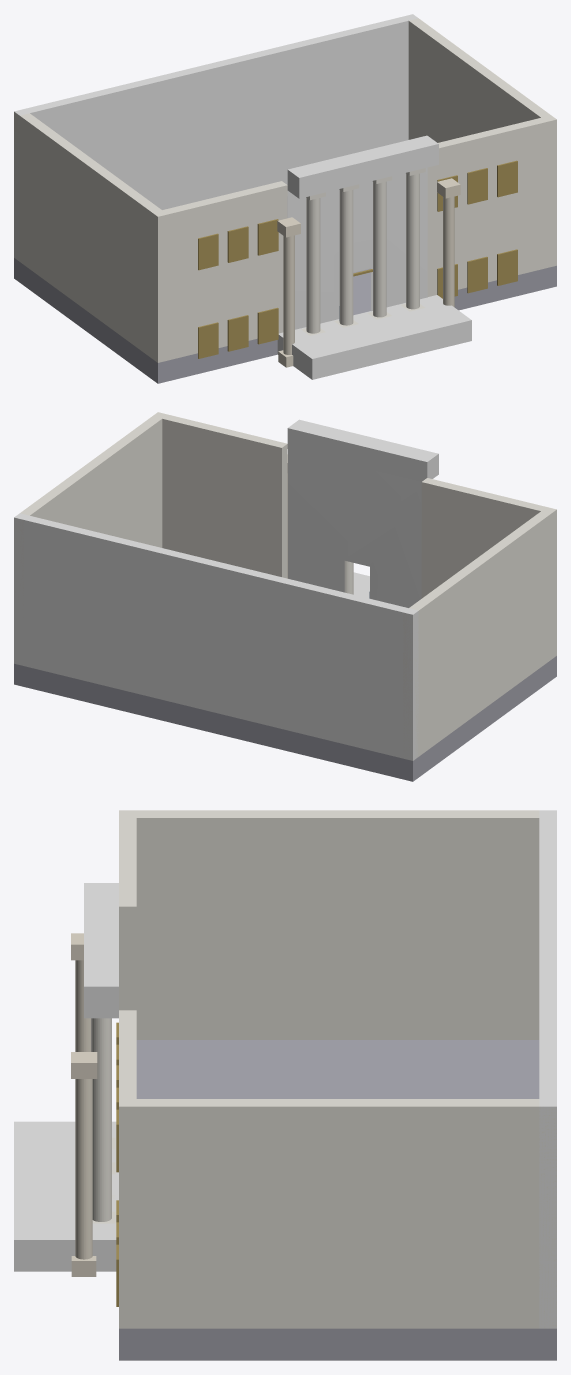
Rendered from entrée.fbx.
The picture shows the model from 3 angles, top to bottom: view 1: azimuth 30°, elevation 25°; view 2: azimuth 150°, elevation 25°; view 3: azimuth 270°, elevation 25°; orthographic projection. The views are drawn at different scales.
Visible parts, largest first — view 1: Mur_Arriere, Mur_G, Aile_G, Aile_D, Mur_D, Mur_Porche, Escalier, Socle, Architrave, Col_0.001, Col_1.002, Col_3.002 (+13 smaller); view 2: Mur_Arriere, Mur_G, Aile_D, Mur_Porche, Socle, Mur_D, Aile_G, Architrave; view 3: Mur_D, Mur_G, Socle, Escalier, Mur_Arriere, Aile_D, Architrave, Col_3.002, Aile_G, Col_8, Col_-8, Top_8.
Part boxes in pixels (box(x1,y1,x2,y2)): Mur_Arriere: box(14, 14, 418, 261); Mur_G: box(14, 111, 167, 362); Aile_G: box(152, 181, 287, 362); Aile_D: box(427, 118, 556, 296); Mur_D: box(408, 18, 556, 267); Mur_Porche: box(288, 167, 427, 329); Escalier: box(277, 295, 471, 379); Socle: box(14, 196, 556, 383); Architrave: box(287, 135, 438, 198); Col_0.001: box(306, 198, 320, 333); Col_1.002: box(339, 190, 353, 325); Col_3.002: box(406, 173, 419, 309); Mur_Arriere: box(14, 513, 418, 760); Mur_G: box(403, 507, 556, 758); Aile_D: box(162, 414, 287, 578); Mur_Porche: box(288, 449, 421, 607); Socle: box(14, 656, 556, 781); Mur_D: box(14, 412, 167, 617); Aile_G: box(421, 478, 556, 598); Architrave: box(287, 419, 438, 481); Mur_D: box(119, 1099, 556, 1328); Mur_G: box(119, 810, 539, 1039); Socle: box(119, 1040, 556, 1360); Escalier: box(14, 1121, 118, 1271); Mur_Arriere: box(539, 810, 556, 1328); Aile_D: box(119, 1010, 136, 1328); Architrave: box(84, 883, 118, 1018); Col_3.002: box(91, 1018, 111, 1221); Aile_G: box(119, 818, 136, 1010); Col_8: box(75, 1079, 92, 1259); Col_-8: box(75, 960, 90, 1051); Top_8: box(71, 1052, 97, 1078).
Size of the model in its own units: 4000 by 1750 by 3100.
